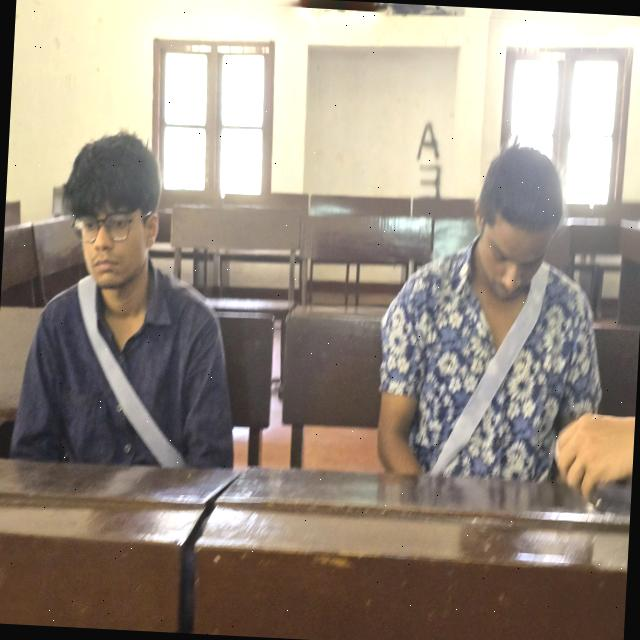seatbelt: (398, 280, 570, 480), (32, 278, 208, 458)
